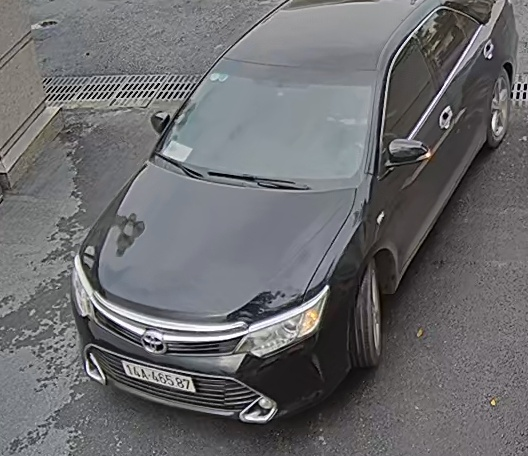vehicle plate: (116, 356, 197, 396)
